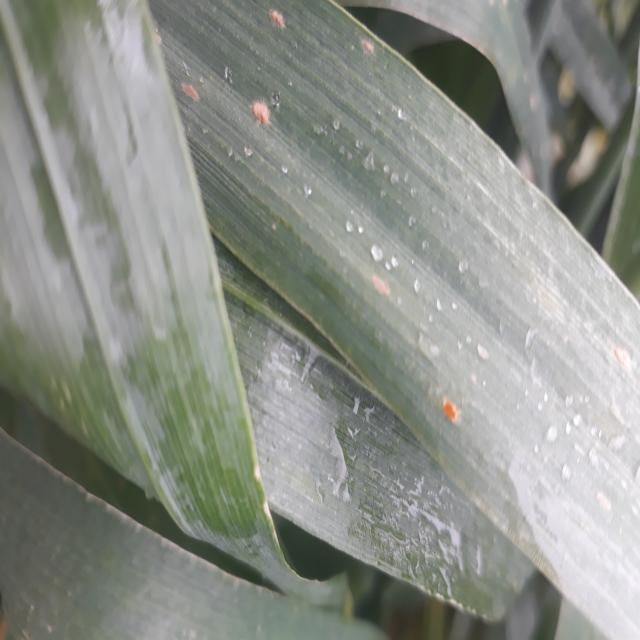orang_rust: (174, 15, 317, 167), (429, 352, 478, 470)
